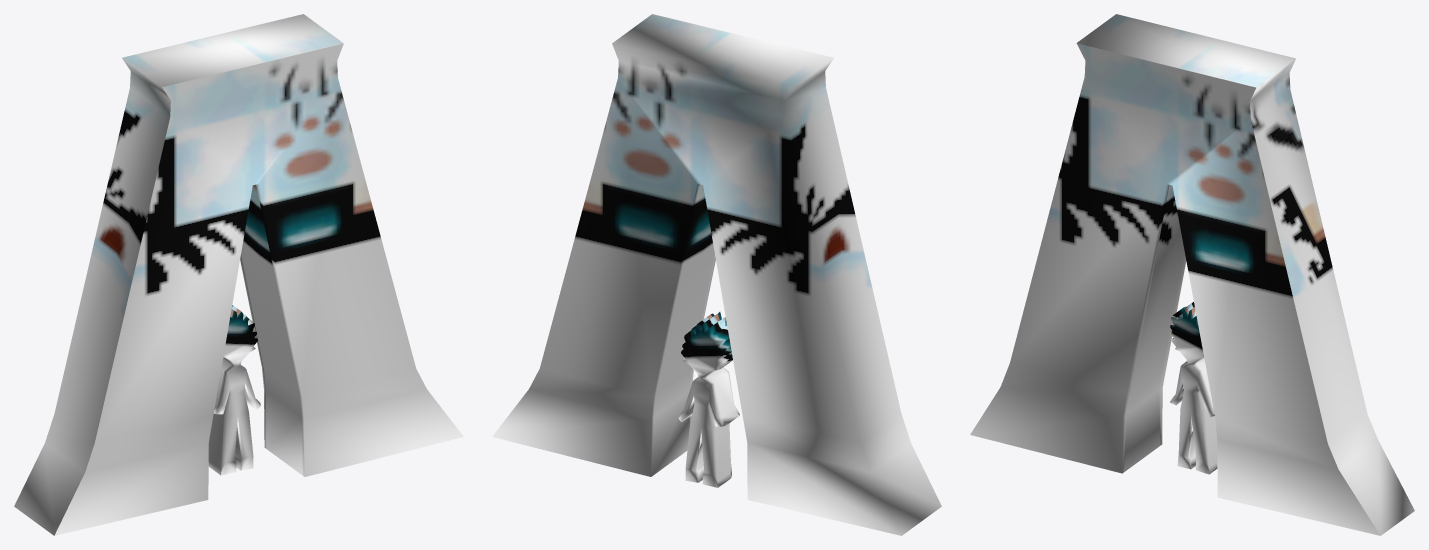
The model's file is STATIC.ico.obj.
3 renders of one model, left to right at view 1: azimuth 30°, elevation 25°; view 2: azimuth 150°, elevation 25°; view 3: azimuth 330°, elevation 25°, orthographic.
Bounding box in the file's own units: 4.49 × 4.43 × 0.7598.
